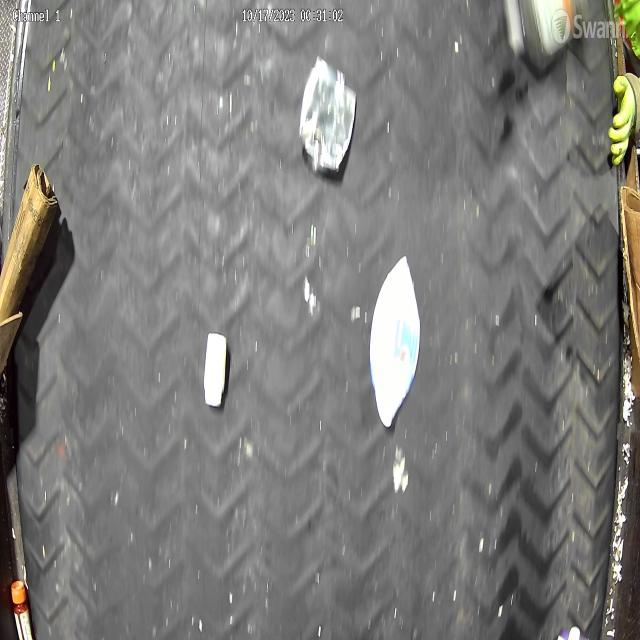can: (298, 55, 357, 172)
non_white_jug: (369, 252, 423, 428)
